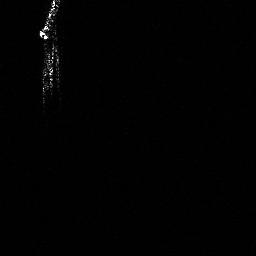ship: (38, 1, 62, 103)
